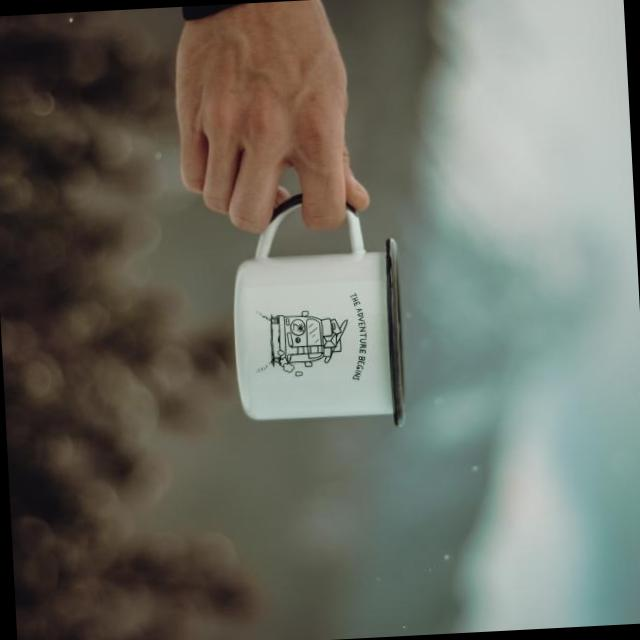Coffee Mug: (225, 190, 408, 436)
